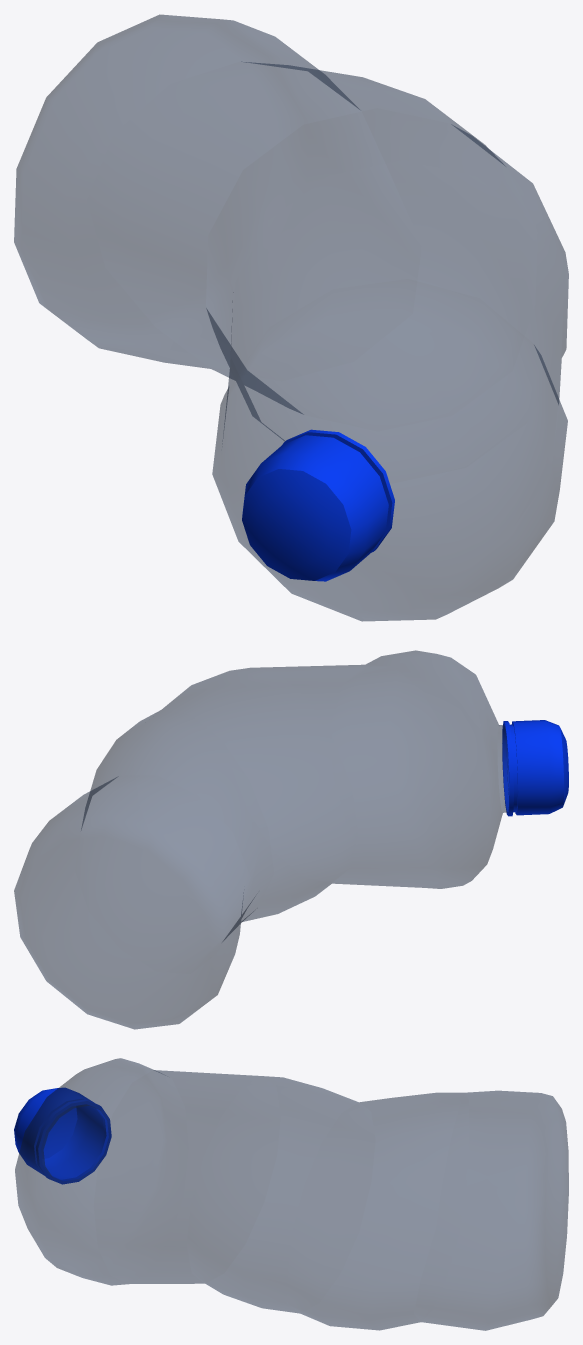
Rendered from SM_MCGarbages_Mesh01.FBX.
The picture shows the model from 3 angles, top to bottom: view 1: azimuth 30°, elevation 25°; view 2: azimuth 150°, elevation 25°; view 3: azimuth 270°, elevation 25°; orthographic projection. The views are drawn at different scales.
Parts seen in each view (by area): view 1: SM_MCGarbages_Mesh01; view 2: SM_MCGarbages_Mesh01; view 3: SM_MCGarbages_Mesh01.
Boxes of the visible parts, x1,y1,x2,y2 form: SM_MCGarbages_Mesh01: (14,14,568,621); SM_MCGarbages_Mesh01: (14,650,568,1029); SM_MCGarbages_Mesh01: (14,1058,568,1330).
Size of what is drawn, in the model's own units: 19.01 by 30.3 by 13.62.
